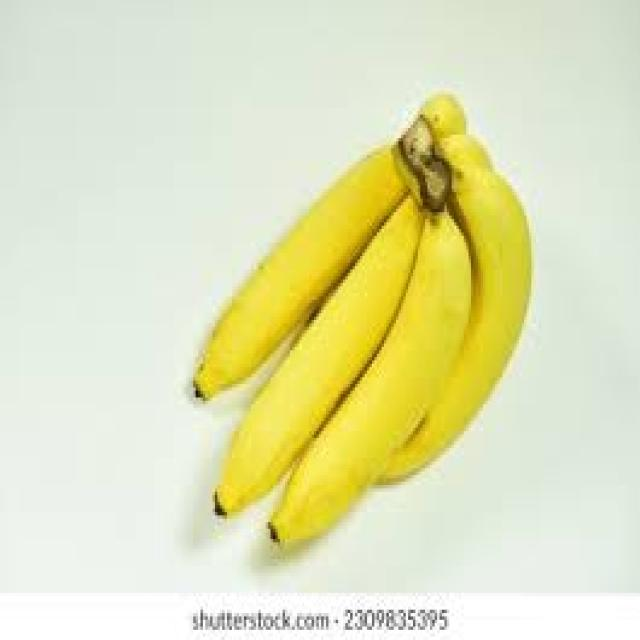Banana: (194, 149, 411, 397)
